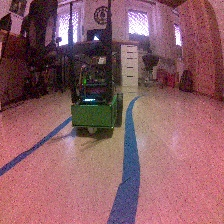rob: (69, 62, 123, 135)
